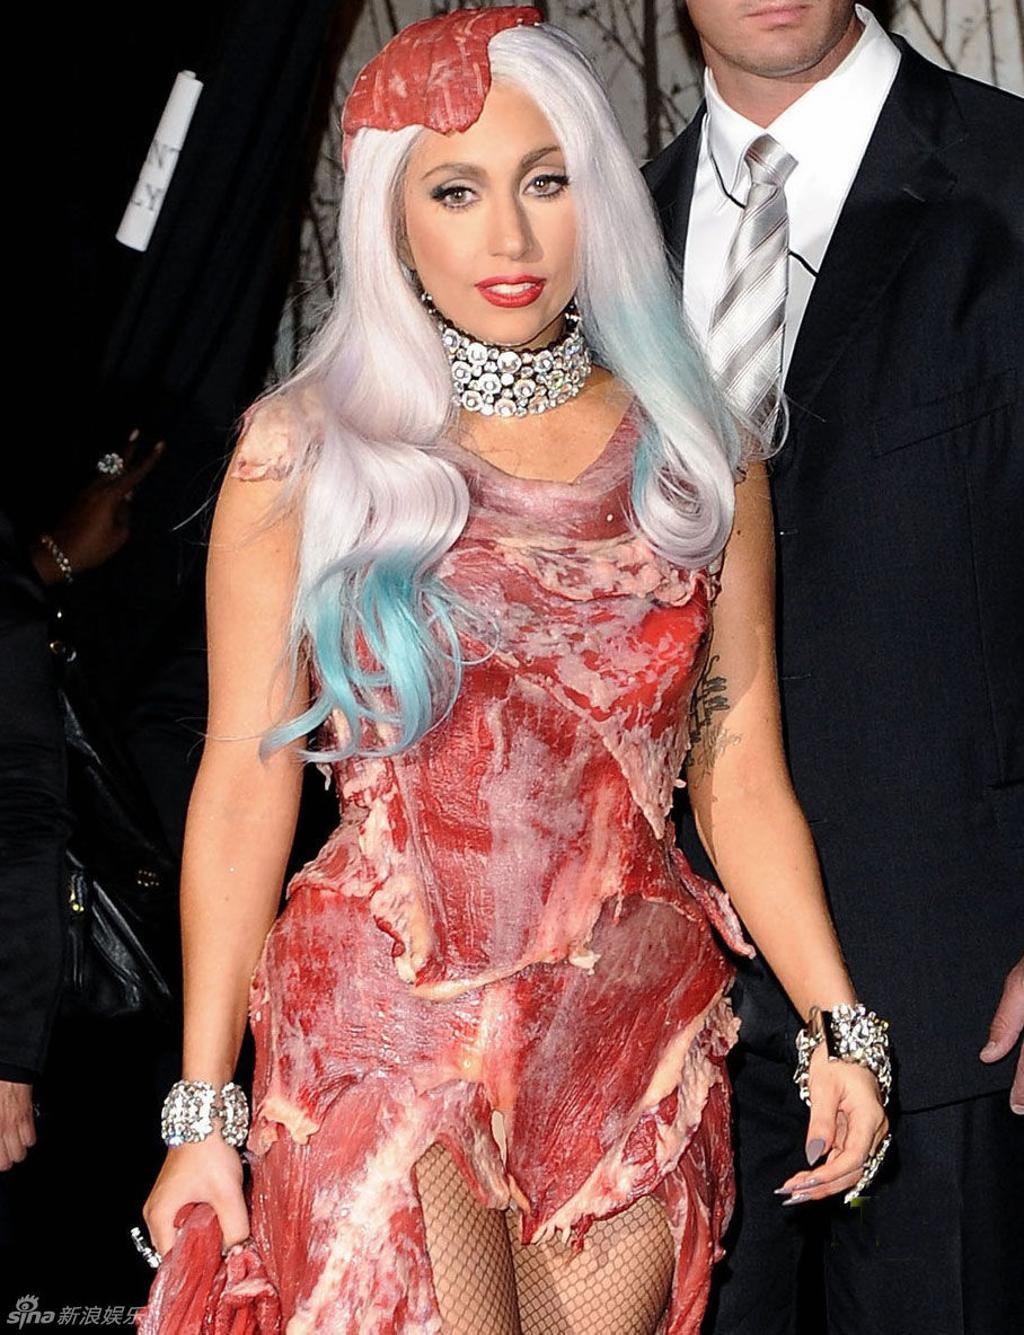face: (404, 86, 584, 347)
